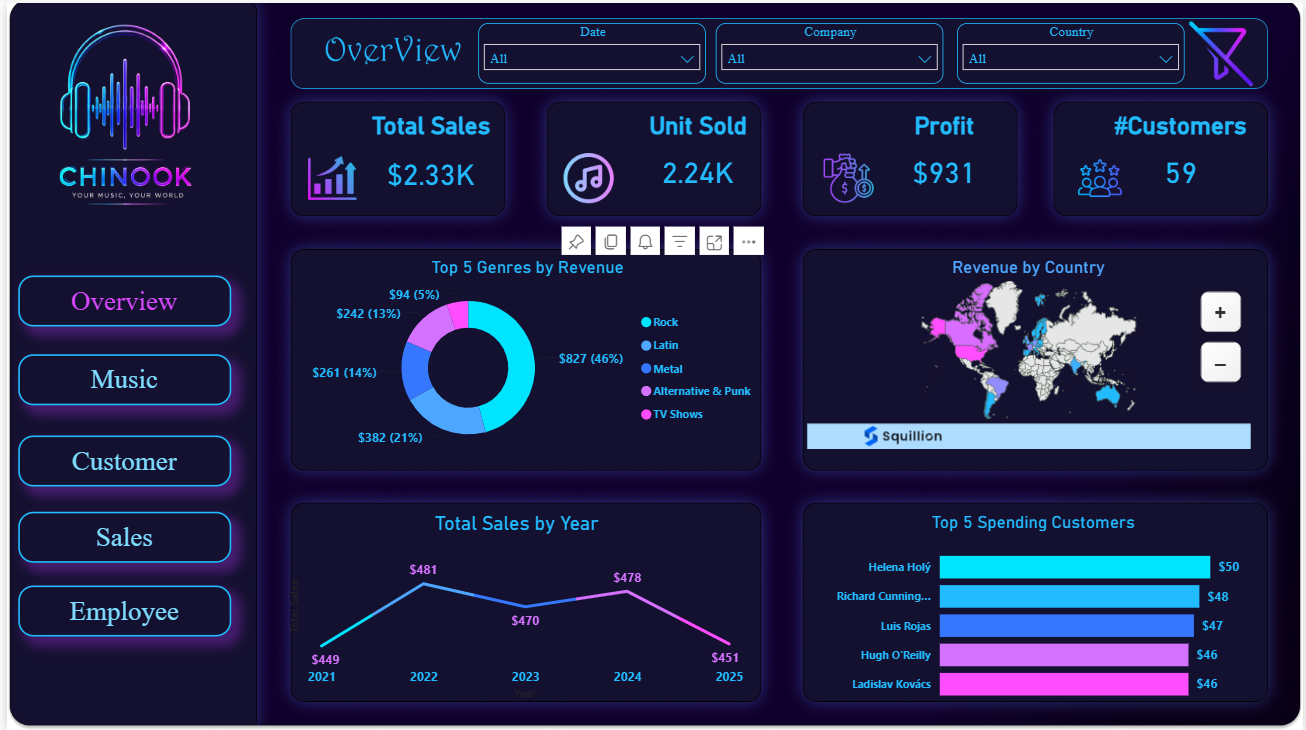

The dashboard page shown, as its layout file describes it:
{"tool":"powerbi","page":{"name":"OverView","canvas":[1280,720],"ordinal":0},"visuals":[{"type":"image","box":[0,0,234.6,227.8],"z":0},{"type":"card","title":"Total Sales","fields":{"Values":["Dax.Total Sales"]},"box":[334.8,107,168.8,94.7],"z":1000},{"type":"image","box":[292.3,148.2,57.6,49.4],"z":2000},{"type":"actionButton","title":" Overview","box":[11,269,210,50],"z":3000},{"type":"card","title":"Unit Sold","fields":{"Values":["Dax.Total Quantity"]},"box":[603.8,107,157.8,90.6],"z":4000},{"type":"image","box":[546.1,148.2,57.6,49.4],"z":5000},{"type":"card","title":"Profit","fields":{"Values":["Dax.Total Profit"]},"box":[846.7,107,157.8,90.6],"z":6000},{"type":"image","box":[802.7,148.2,57.6,49.4],"z":7000},{"type":"card","title":"#Customers","fields":{"Values":["Dax.Total Customers"]},"box":[1079.9,107,157.8,90.6],"z":8000},{"type":"image","box":[1051.1,148.2,57.6,49.4],"z":9000},{"type":"lineChart","fields":{"Y":["Dax.Total Sales"],"Category":["DateDim.Year"]},"box":[274.4,502.2,458.3,190.7],"z":10000},{"type":"actionButton","title":"Music","box":[11,347.2,210,50],"z":11000},{"type":"actionButton","title":"Customer","box":[11,426.8,210,50],"z":12000},{"type":"actionButton","title":"Sales","box":[11,502.2,210,50],"z":13000},{"type":"actionButton","title":"Employee","box":[11,575,210,50],"z":14000},{"type":"donutChart","title":"Top 5 Genres by Revenue","fields":{"Category":["Top 5 Genres.Genre"],"Y":["Sum(Top 5 Genres.TotalSales)"]},"box":[279.9,251.1,467.9,200.3],"z":15000},{"type":"clusteredBarChart","title":"Top 5 Spending Customers","fields":{"Category":["Top 5 Customers.CustomerName"],"Y":["Sum(Top 5 Customers.TotalSales)"]},"box":[802.3,501.9,422.3,199.1],"z":16000},{"type":"MapBySquillion","title":"Revenue by Country","fields":{"category":["customer.Country"],"value":["Dax.Total Sales"]},"box":[784.9,251.1,447.3,194.9],"z":17000},{"type":"slicer","title":"Date","fields":{"Values":["DateDim.Year","DateDim.MonthName"]},"box":[465,20,225,60],"z":18000},{"type":"slicer","title":"Country","fields":{"Values":["customer.Country"]},"box":[938.8,20,225,60],"z":19000},{"type":"slicer","title":"Company","fields":{"Values":["customer.Company"]},"box":[700,20,225,60],"z":20000},{"type":"image","box":[1160.6,14.5,77.2,70],"z":21000}]}

Visuals, with their boxes in screenshot pixels (x1, y1, x2, y2), scaled from the page's 1280x720 canvas onto the 1306x730 screenshot:
image: [left=0, top=0, right=239, bottom=231]
"Total Sales" card: [left=342, top=108, right=514, bottom=205]
image: [left=298, top=150, right=357, bottom=200]
" Overview" actionButton: [left=11, top=273, right=225, bottom=323]
"Unit Sold" card: [left=616, top=108, right=777, bottom=200]
image: [left=557, top=150, right=616, bottom=200]
"Profit" card: [left=864, top=108, right=1025, bottom=200]
image: [left=819, top=150, right=878, bottom=200]
"#Customers" card: [left=1102, top=108, right=1263, bottom=200]
image: [left=1072, top=150, right=1131, bottom=200]
lineChart - Dax.Total Sales x DateDim.Year: [left=280, top=509, right=748, bottom=703]
"Music" actionButton: [left=11, top=352, right=225, bottom=403]
"Customer" actionButton: [left=11, top=433, right=225, bottom=483]
"Sales" actionButton: [left=11, top=509, right=225, bottom=560]
"Employee" actionButton: [left=11, top=583, right=225, bottom=634]
"Top 5 Genres by Revenue" donutChart: [left=286, top=255, right=763, bottom=458]
"Top 5 Spending Customers" clusteredBarChart: [left=819, top=509, right=1249, bottom=711]
"Revenue by Country" MapBySquillion: [left=801, top=255, right=1257, bottom=452]
"Date" slicer: [left=474, top=20, right=704, bottom=81]
"Country" slicer: [left=958, top=20, right=1187, bottom=81]
"Company" slicer: [left=714, top=20, right=944, bottom=81]
image: [left=1184, top=15, right=1263, bottom=86]
